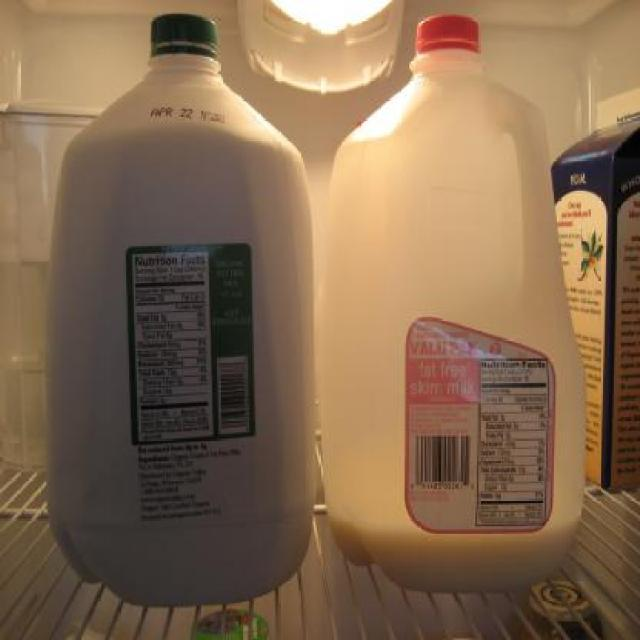Milk: (68, 11, 306, 600), (330, 501, 581, 597)
